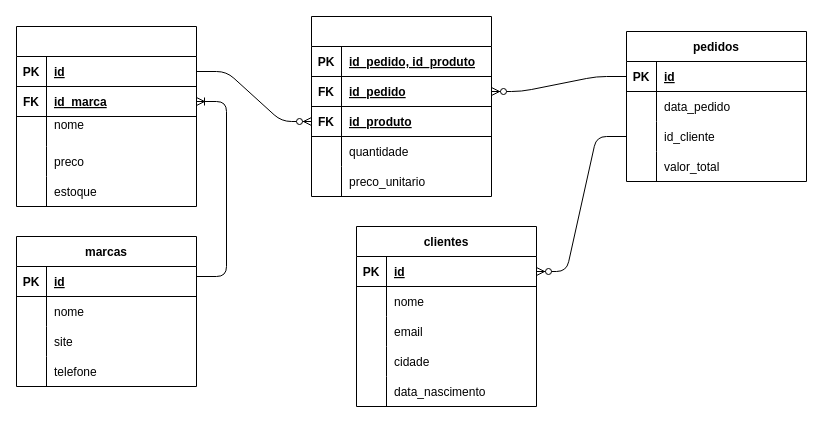
Image size: 823x423. Some labels were removed from this diagram. The shapes that lost their labels are listed below. From the top down, each one's box as (x1, y1, x2, y2) in pixels, then its label:
(16, 26, 196, 206): produtos
(310, 16, 492, 196): itens_pedido
